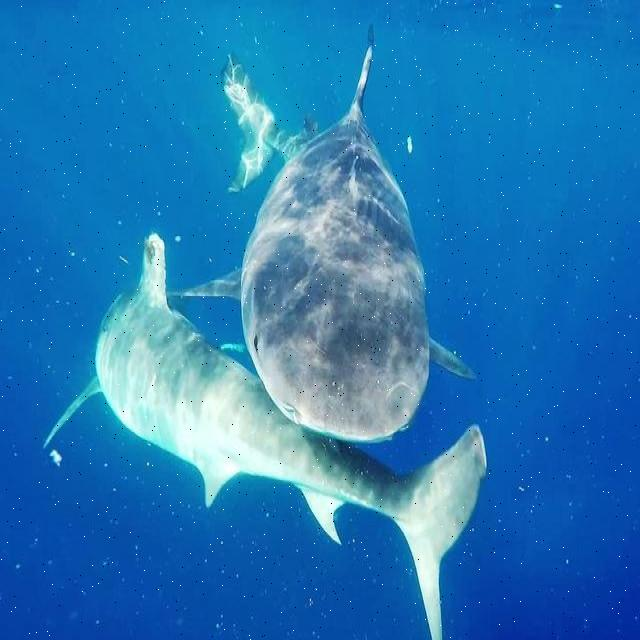fish: (48, 229, 484, 636), (172, 27, 479, 441)
